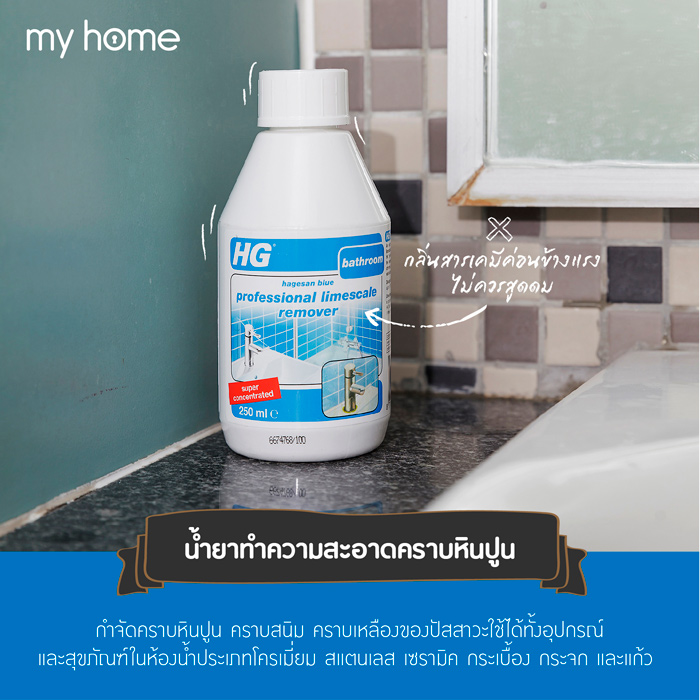Cleaning_solution: (212, 62, 397, 466)
